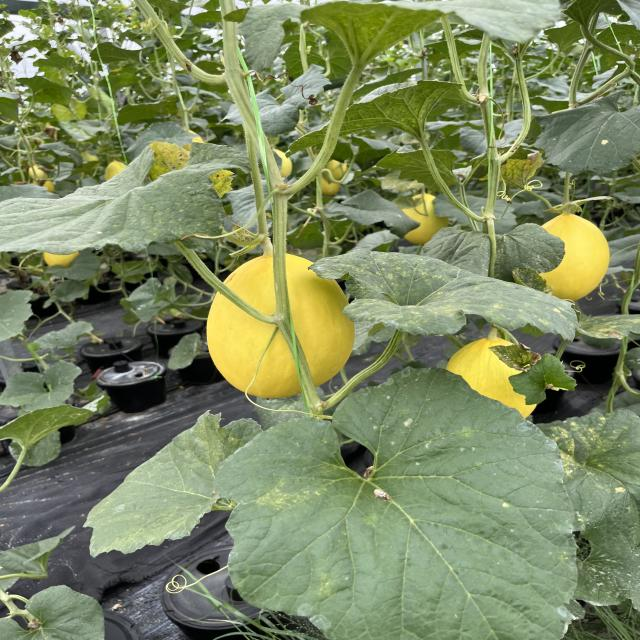CMV: (235, 0, 555, 62), (285, 76, 458, 158)
alternaria leaf blight: (533, 107, 640, 175)
downy mildew: (212, 367, 590, 640), (0, 137, 257, 262), (308, 244, 580, 342)
